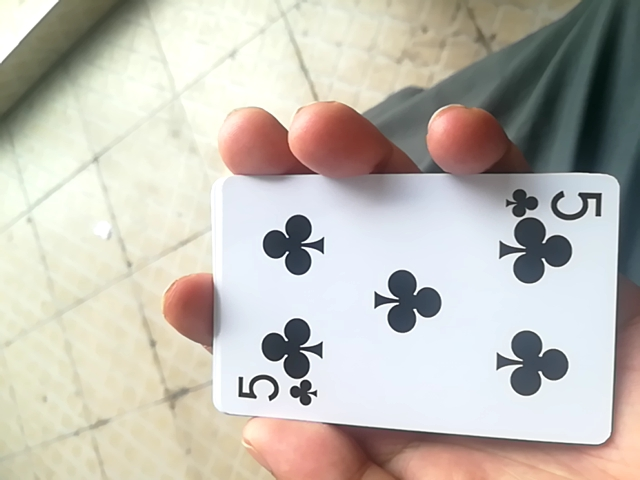mh 5: (210, 166, 624, 445)
